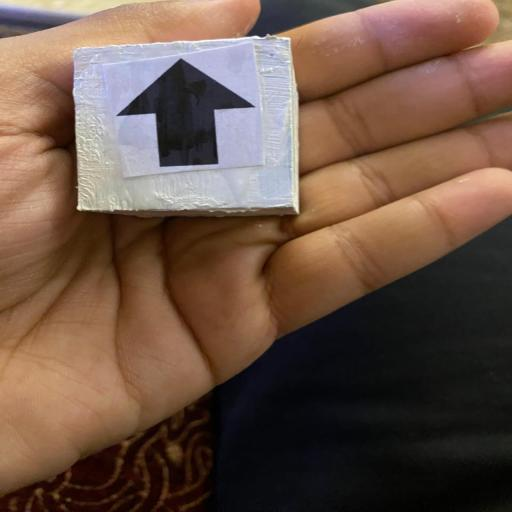Up: (68, 33, 306, 219)
